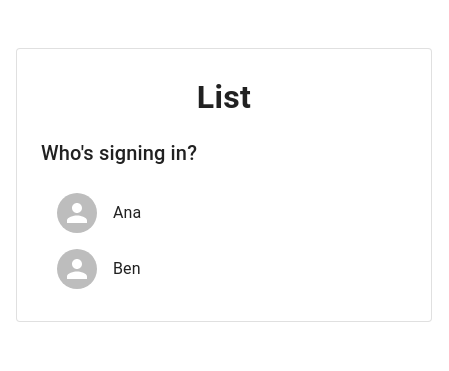
Scenario: LoginPage › distinguishes a server that is down from a password that is needed
What coordinates should you click on to do the following:
click the button "Ben"
I would click on:
 (99, 269)
Its box is [57,249,141,289].
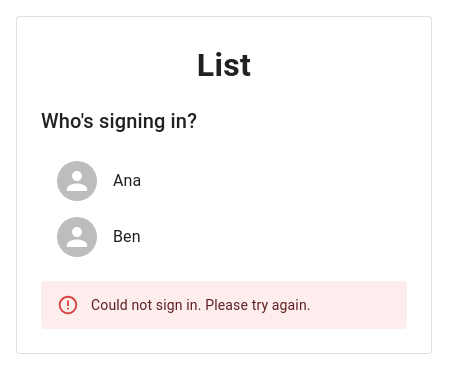
Now the message shows "Could not sign in", box [91,297,311,313]
